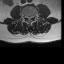CCS_stenosis: (28, 14, 30, 22)
LFS_normal: (32, 13, 34, 19)
LLS_stenosis: (30, 14, 32, 20)
RFS_normal: (25, 13, 27, 19)
RLS_stenosis: (27, 14, 28, 20)
